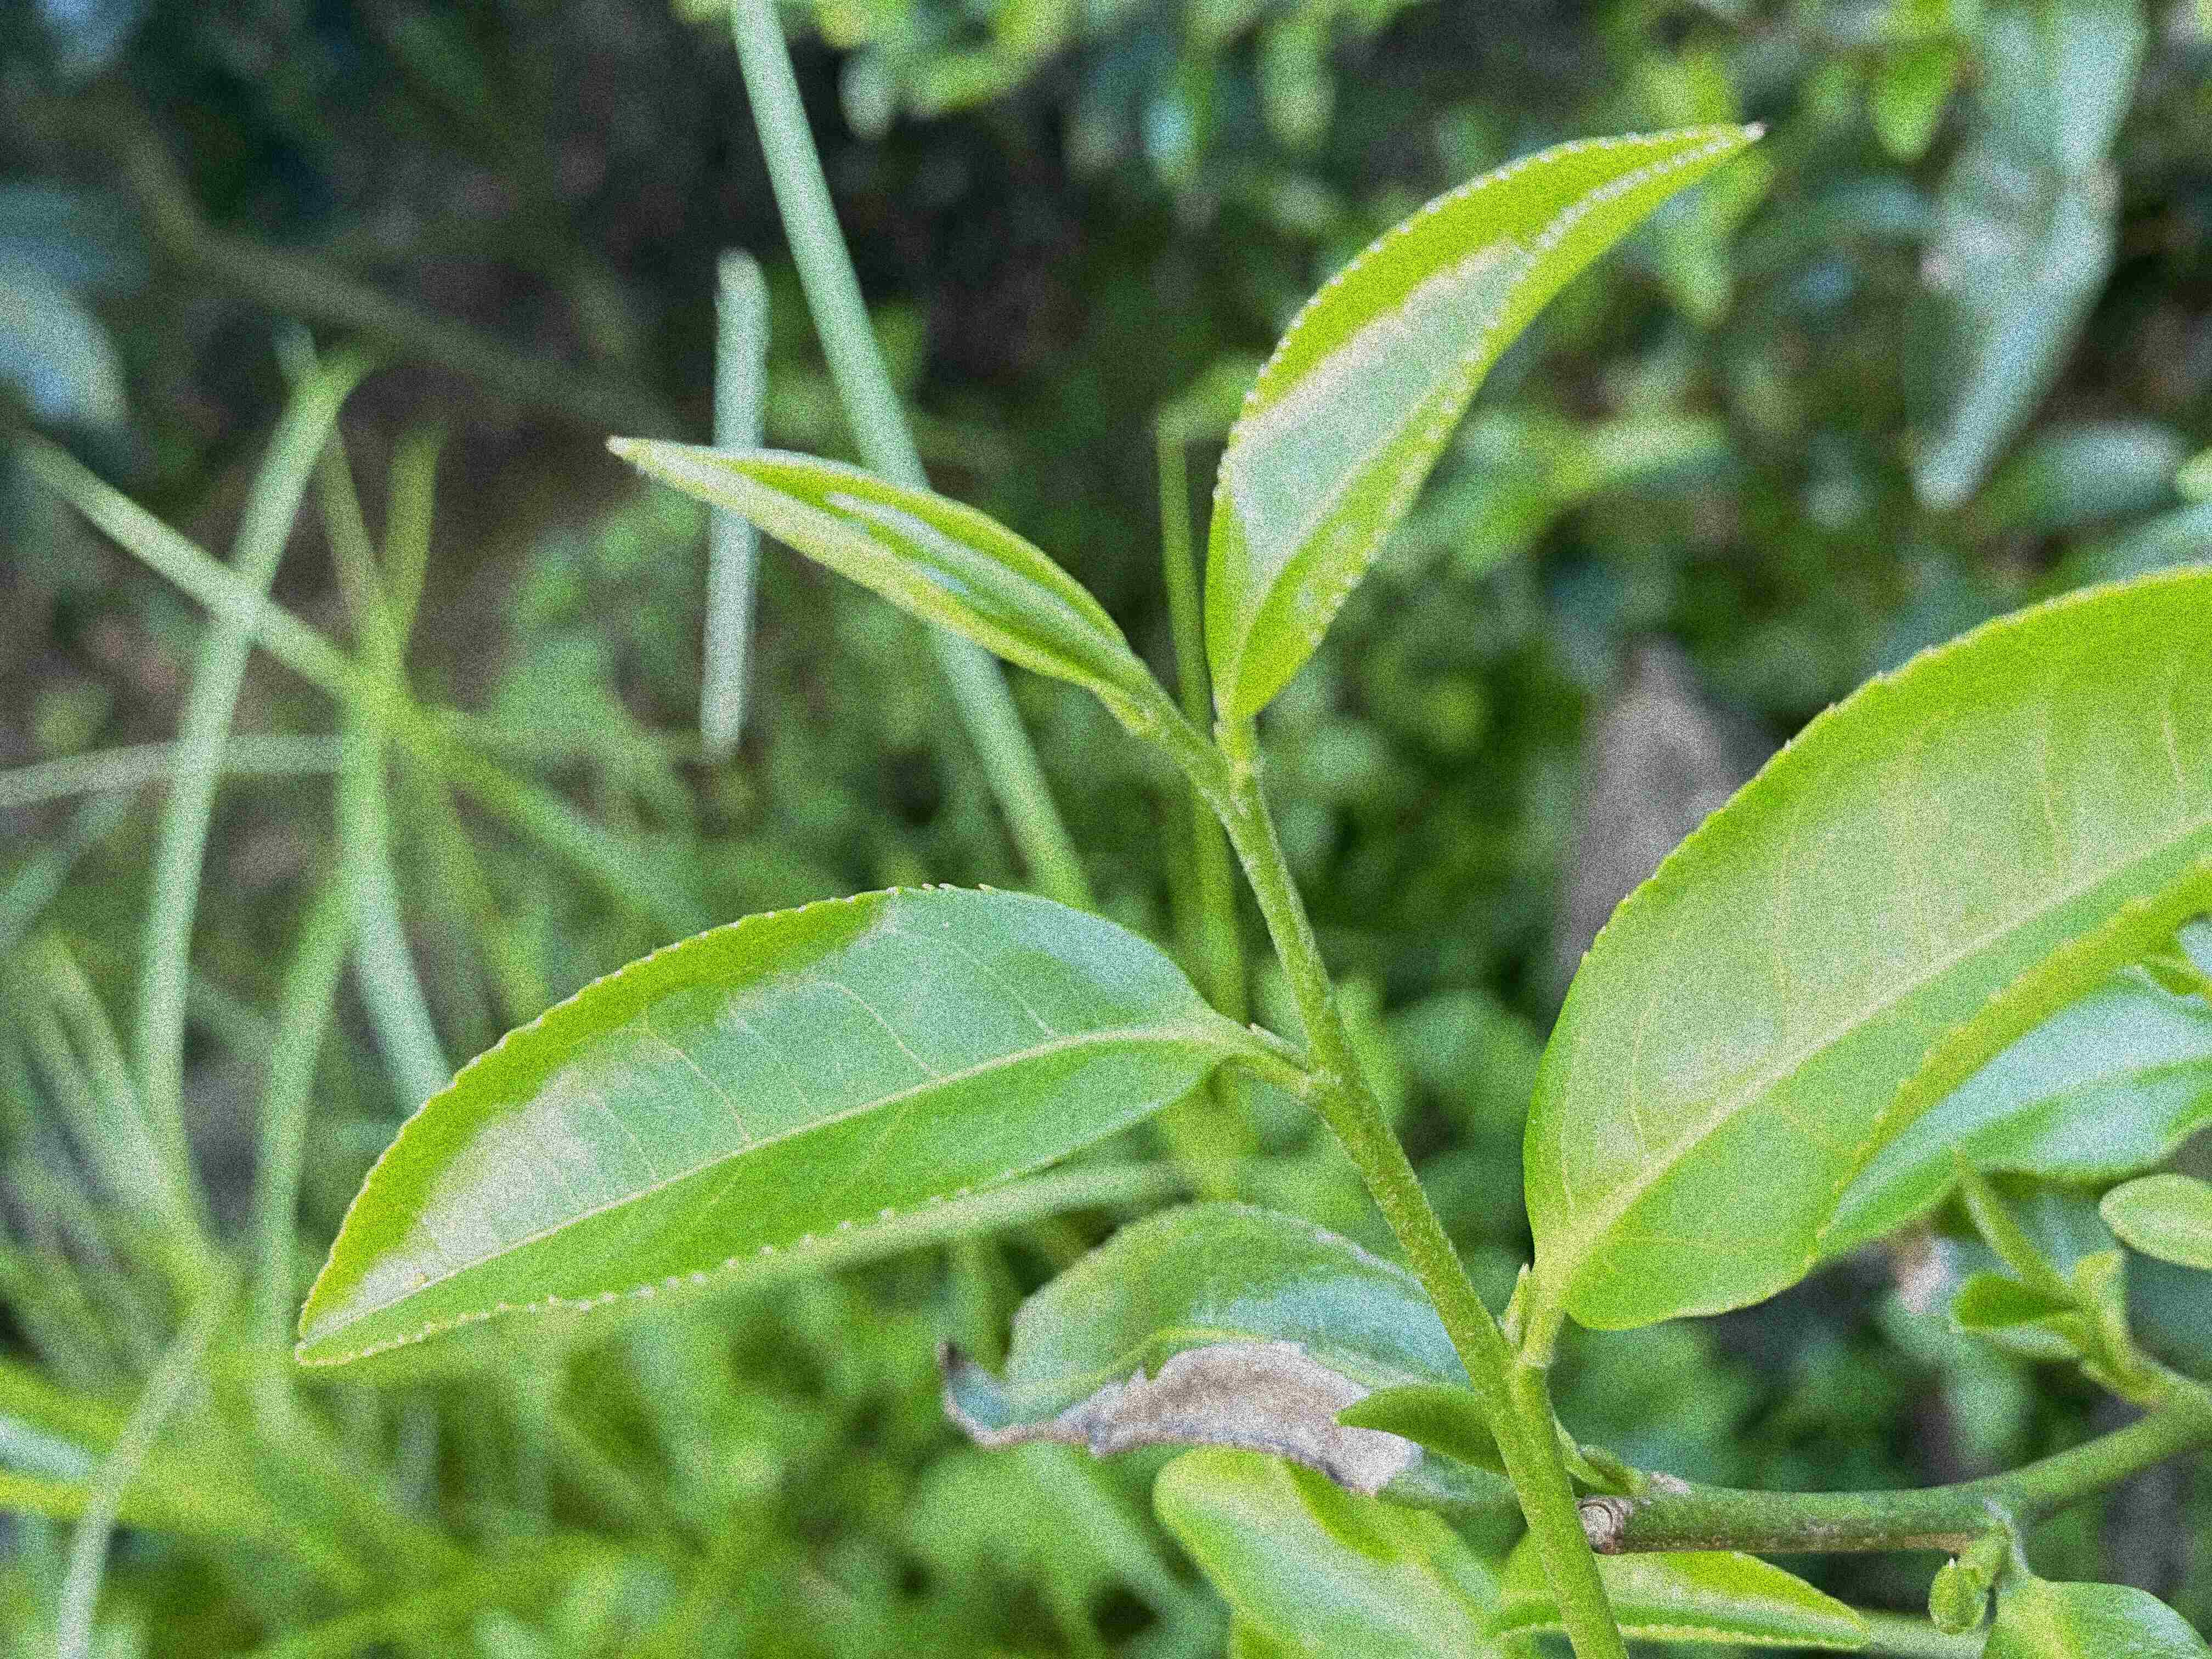healthy: (1519, 565, 2209, 1331), (289, 884, 1224, 1368), (1202, 124, 1766, 718)
tanju_high: (935, 1199, 1522, 1514)
